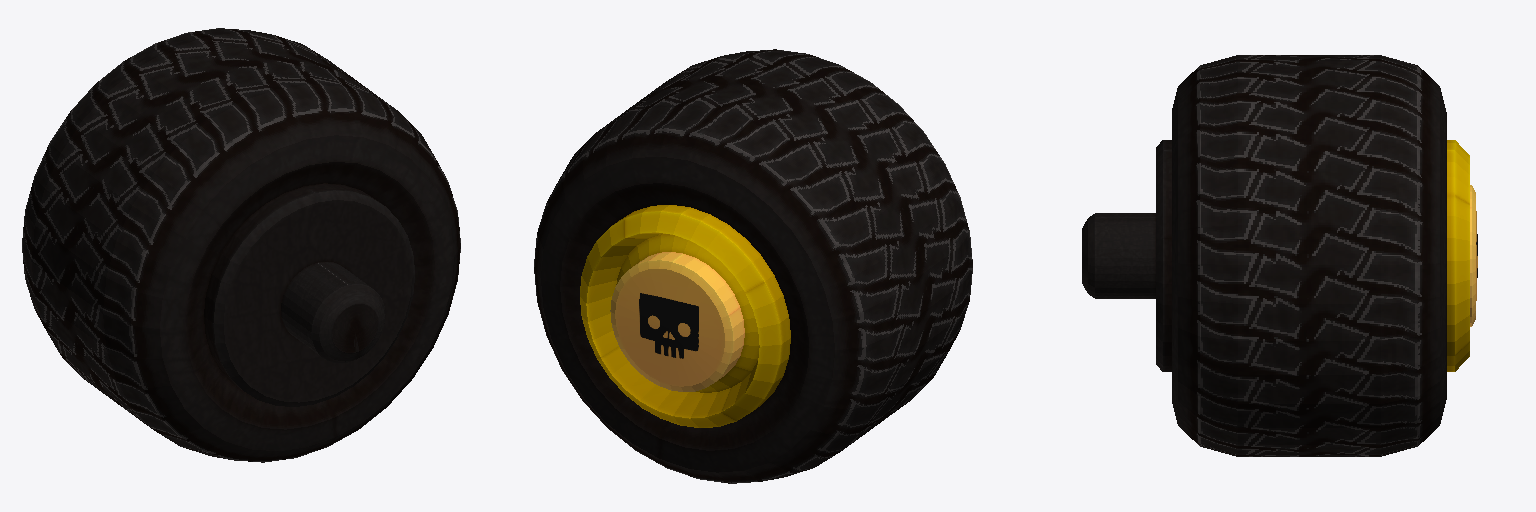
The picture shows the model from 3 angles: view 1: azimuth 30°, elevation 25°; view 2: azimuth 150°, elevation 25°; view 3: azimuth 270°, elevation 25°; orthographic projection.
Visible parts, largest first — view 1: wheel1.001; view 2: wheel1.001; view 3: wheel1.001.
Part boxes in pixels (left/top/right/bottom): wheel1.001: left=22, top=28, right=460, bottom=462; wheel1.001: left=534, top=49, right=972, bottom=483; wheel1.001: left=1082, top=55, right=1477, bottom=456.
Size of the model in its own units: 0.7102 by 0.7102 by 0.7006.
Materials: 1 (1 with a texture image).